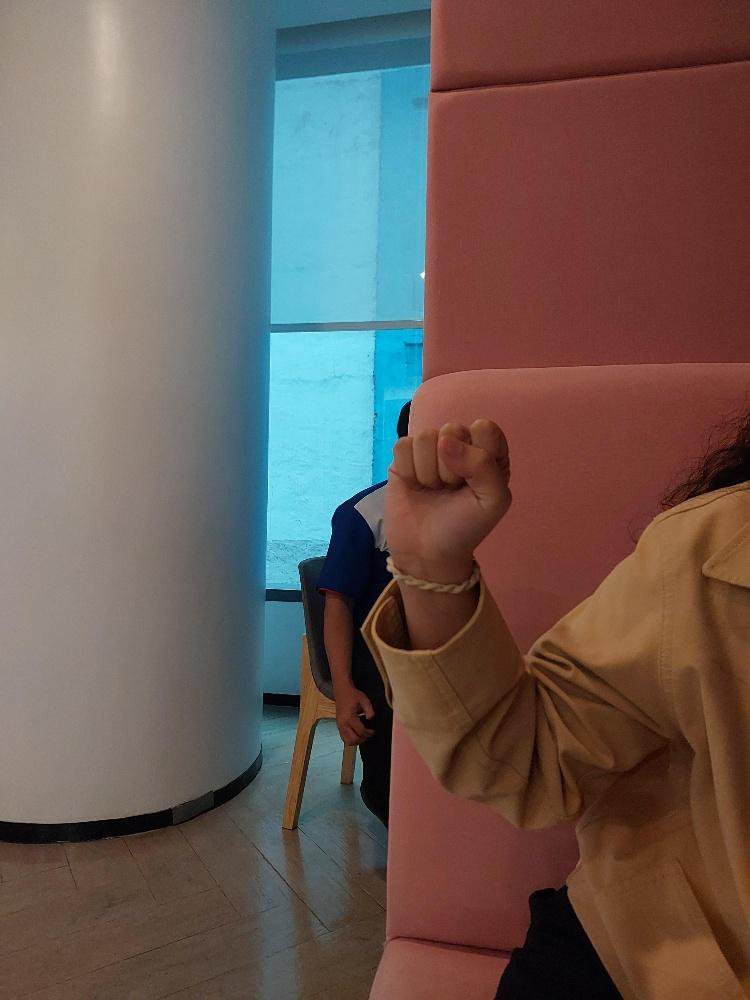s: (375, 410, 523, 577)
